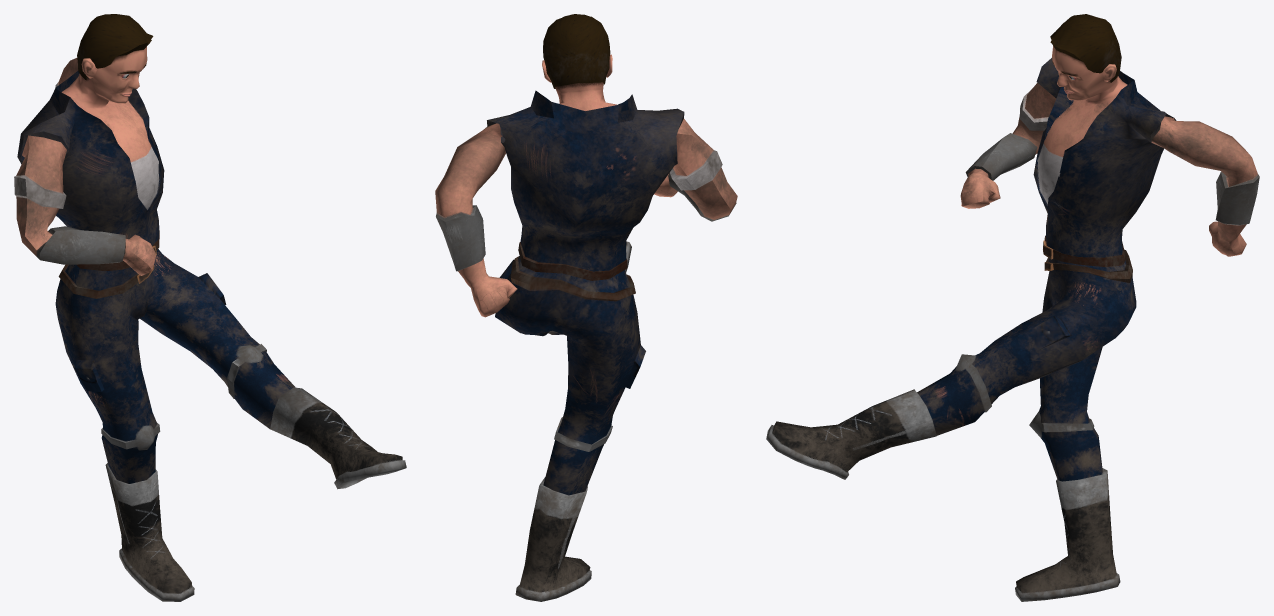
File: Anim_ataque_f2_jugador.0031.obj
3 renders of one model, left to right at view 1: azimuth 30°, elevation 25°; view 2: azimuth 150°, elevation 25°; view 3: azimuth 270°, elevation 25°, orthographic. The views are drawn at different scales.
Parts seen in each view (by area): view 1: polySurface1; view 2: polySurface1; view 3: polySurface1.
Part boxes in pixels (x1,y1,x2,y2): polySurface1: (14, 14, 406, 601); polySurface1: (435, 14, 737, 601); polySurface1: (766, 14, 1259, 601).
Bounding box in the file's own units: 4.56 × 9.54 × 7.6.
